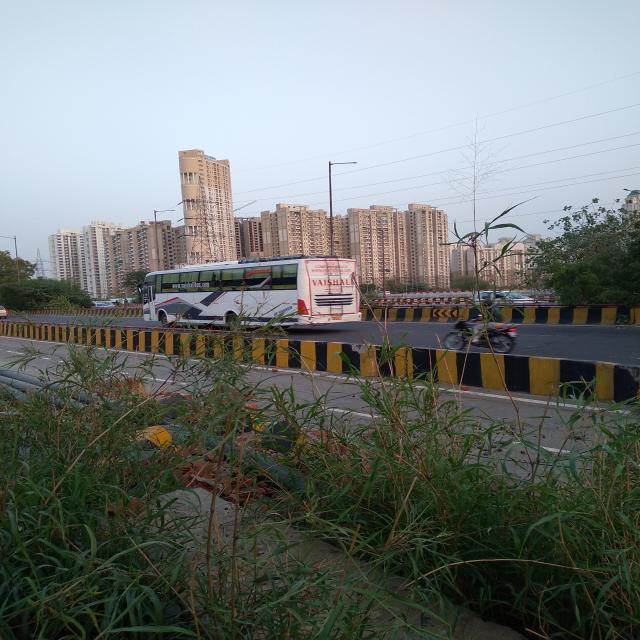Bike: (443, 303, 522, 357)
Bus: (140, 253, 367, 329)
Car: (467, 284, 552, 311), (94, 300, 118, 308), (0, 302, 9, 320), (90, 303, 110, 309), (376, 290, 392, 296)
